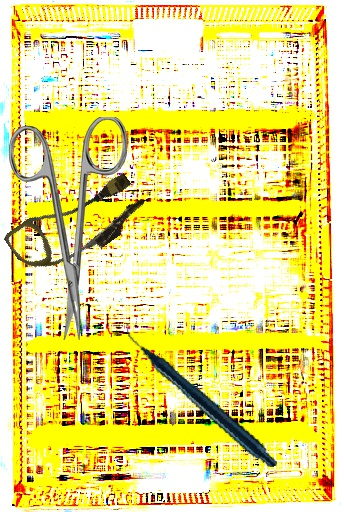Cannula: (2, 158, 152, 292)
Handpiece: (125, 298, 278, 491)
Iris Scissors: (9, 117, 127, 340)
